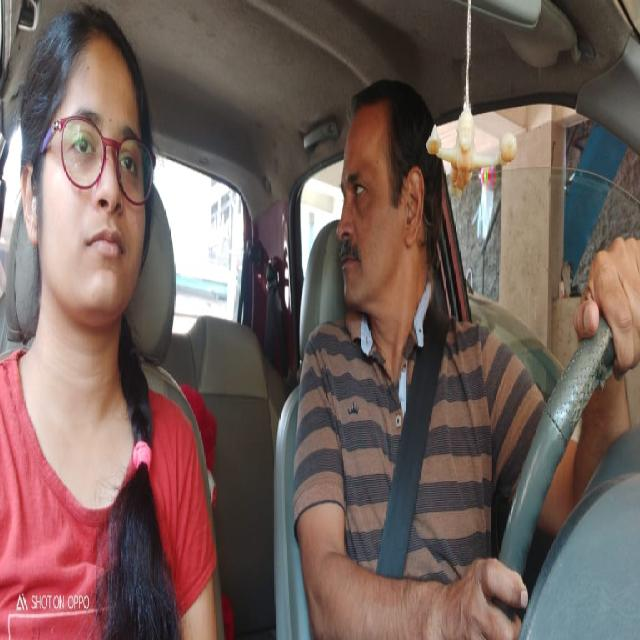LeftRight: (330, 71, 440, 328)
person: (17, 0, 158, 334)
